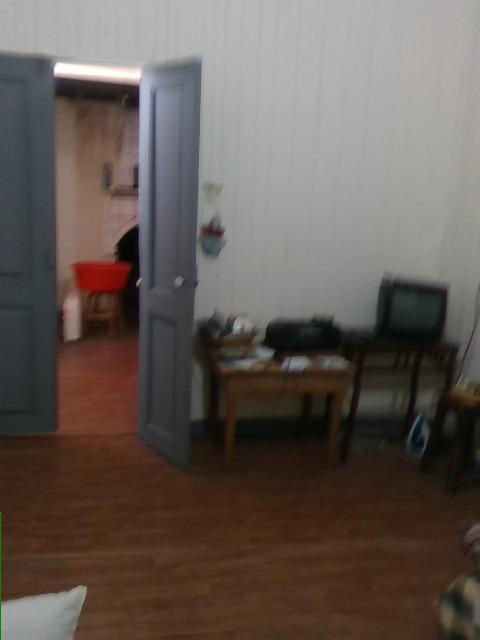door: (138, 49, 193, 462), (1, 57, 54, 436)
